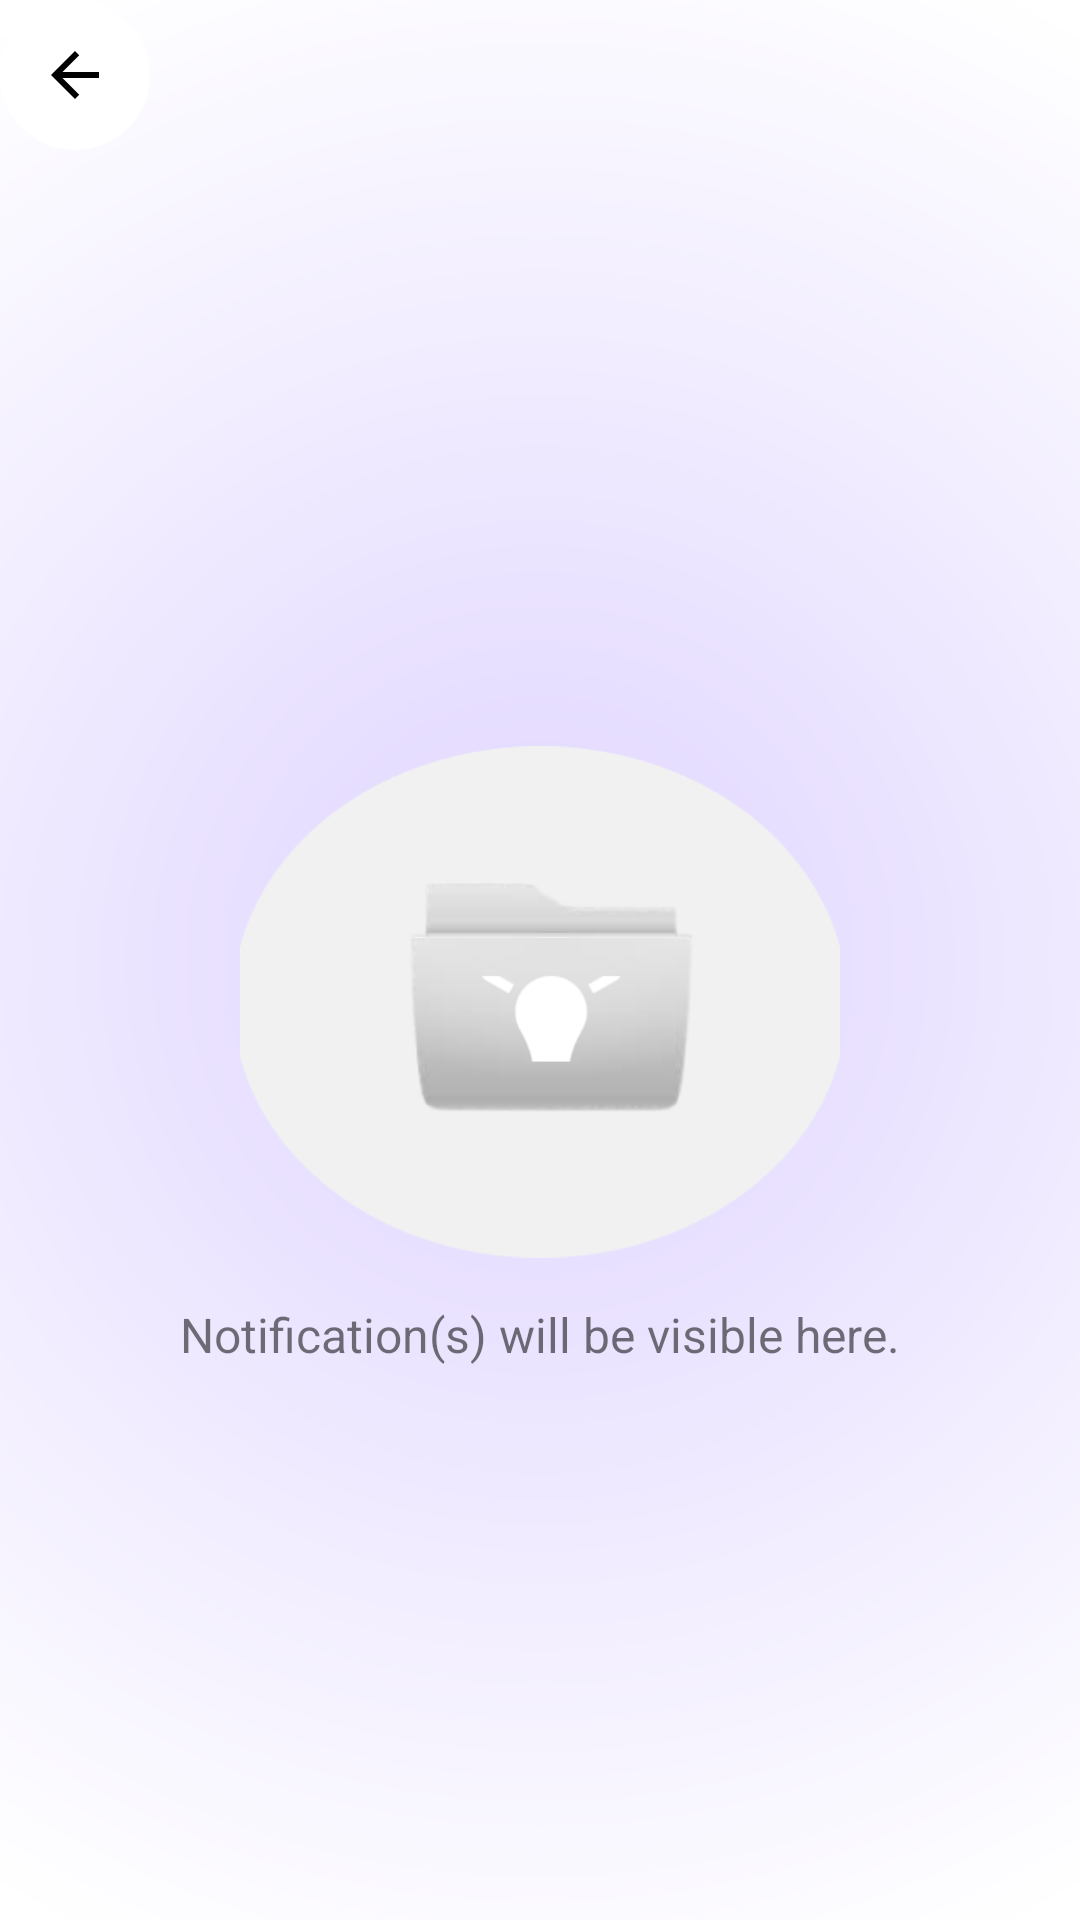

Icons on this 1080 x 1920 Android screen, each with the point to tap as [x,y]:
go back: [75,75]
nothing found: [551,997]
